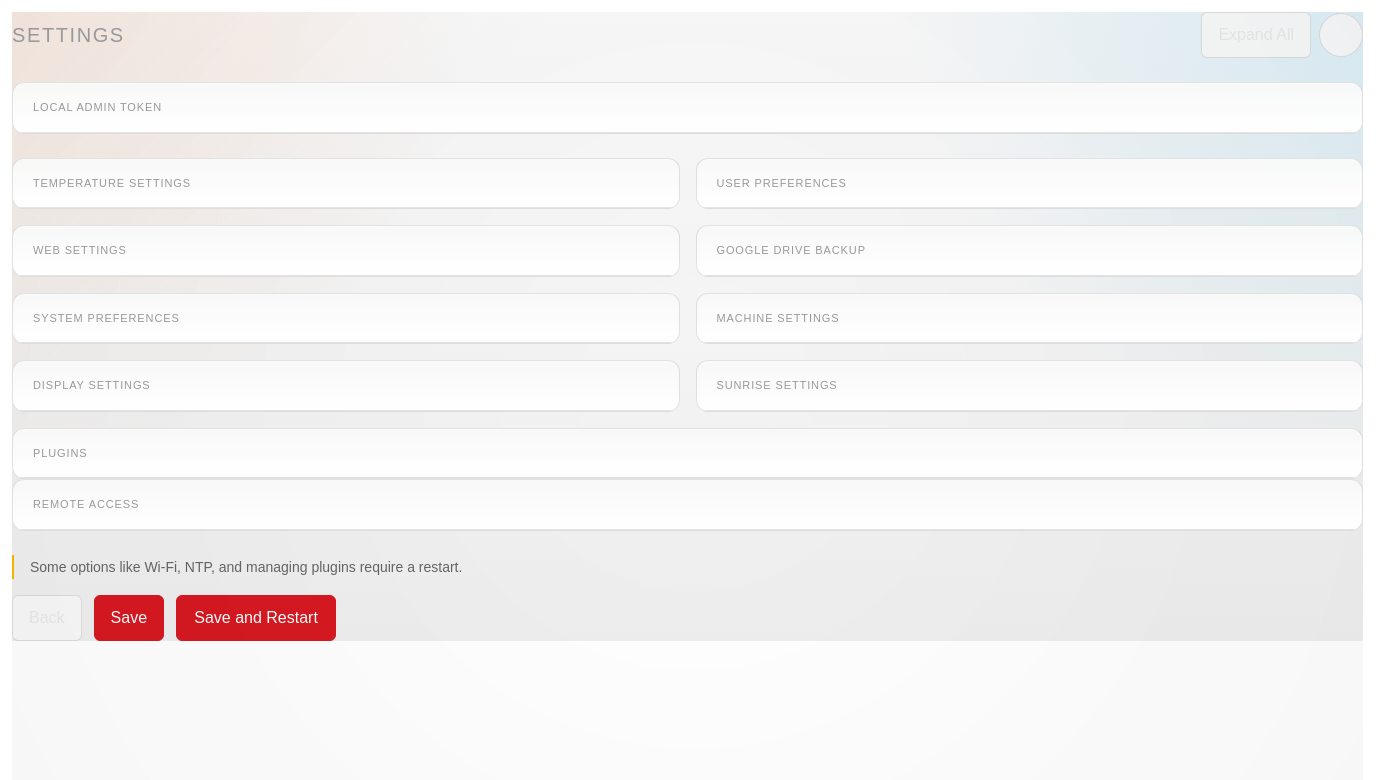
Scenario: Settings collapsible cards (PRO-572) › Expand All opens all 10 cards and flips the button label to Collapse All
Click the button with aria-label "Expand all settings sections".
click(1256, 35)  # box [1201,12,1311,58]
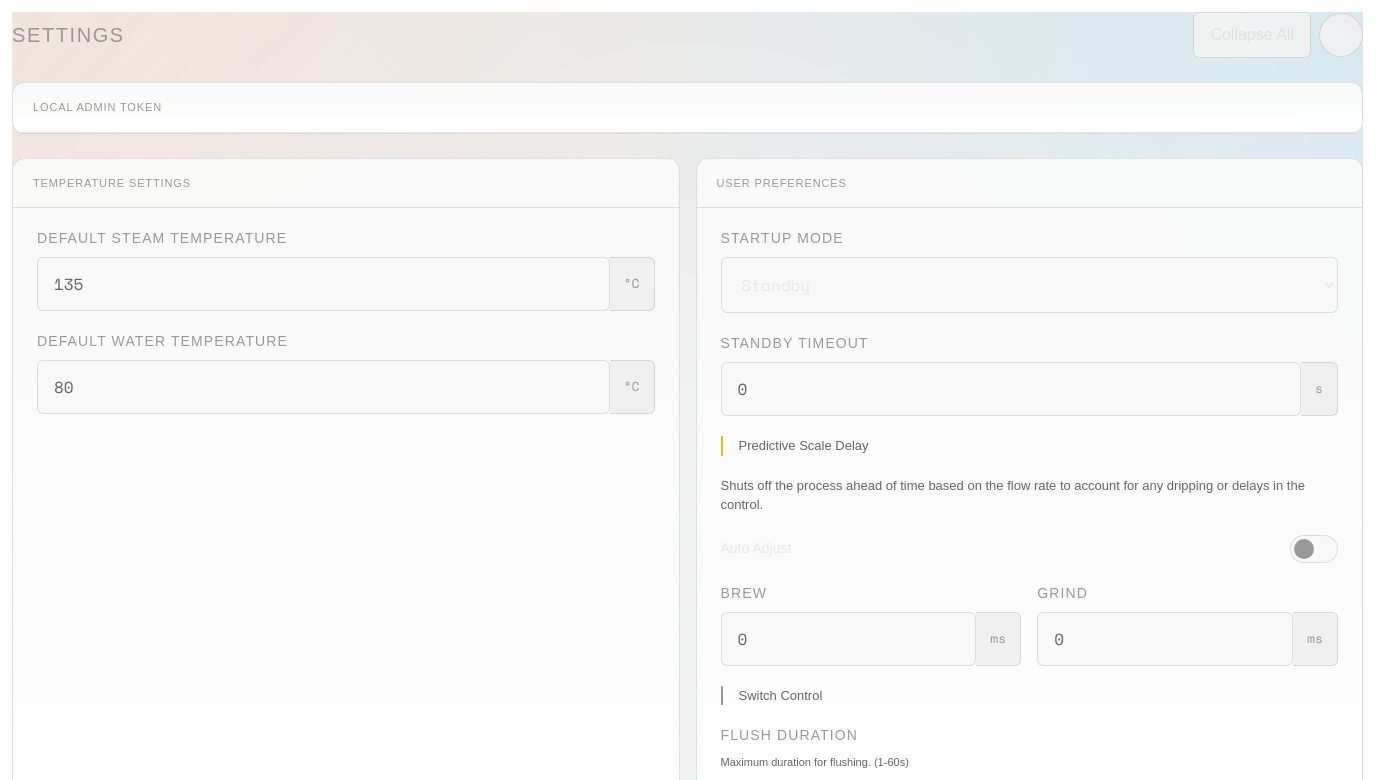
Expected: the number field labelled "Default Steam Temperature" is shown, [37,257,610,311]
Expected: the button with aria-label "Collapse all settings sections" reads "Collapse All"
Note: Collapse All closes everything and flips back.
Click the button with aria-label "Collapse all settings sections".
click(1252, 35)  # box [1193,12,1311,58]
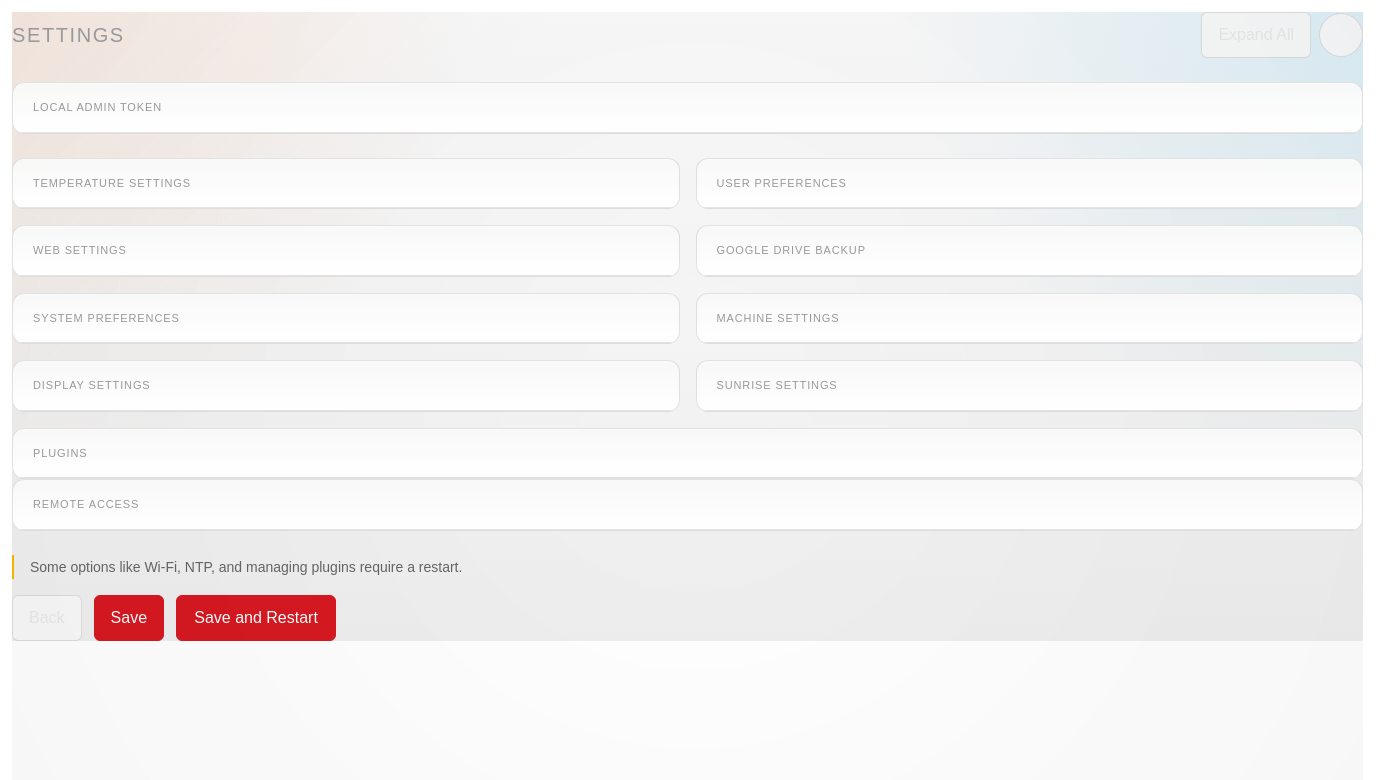
Expected: the button "Web Settings" is collapsed, [33,242,658,258]
Expected: the button "Google Drive Backup" is collapsed, [716,242,1342,258]
Expected: the button "System Preferences" is collapsed, [33,310,658,326]
